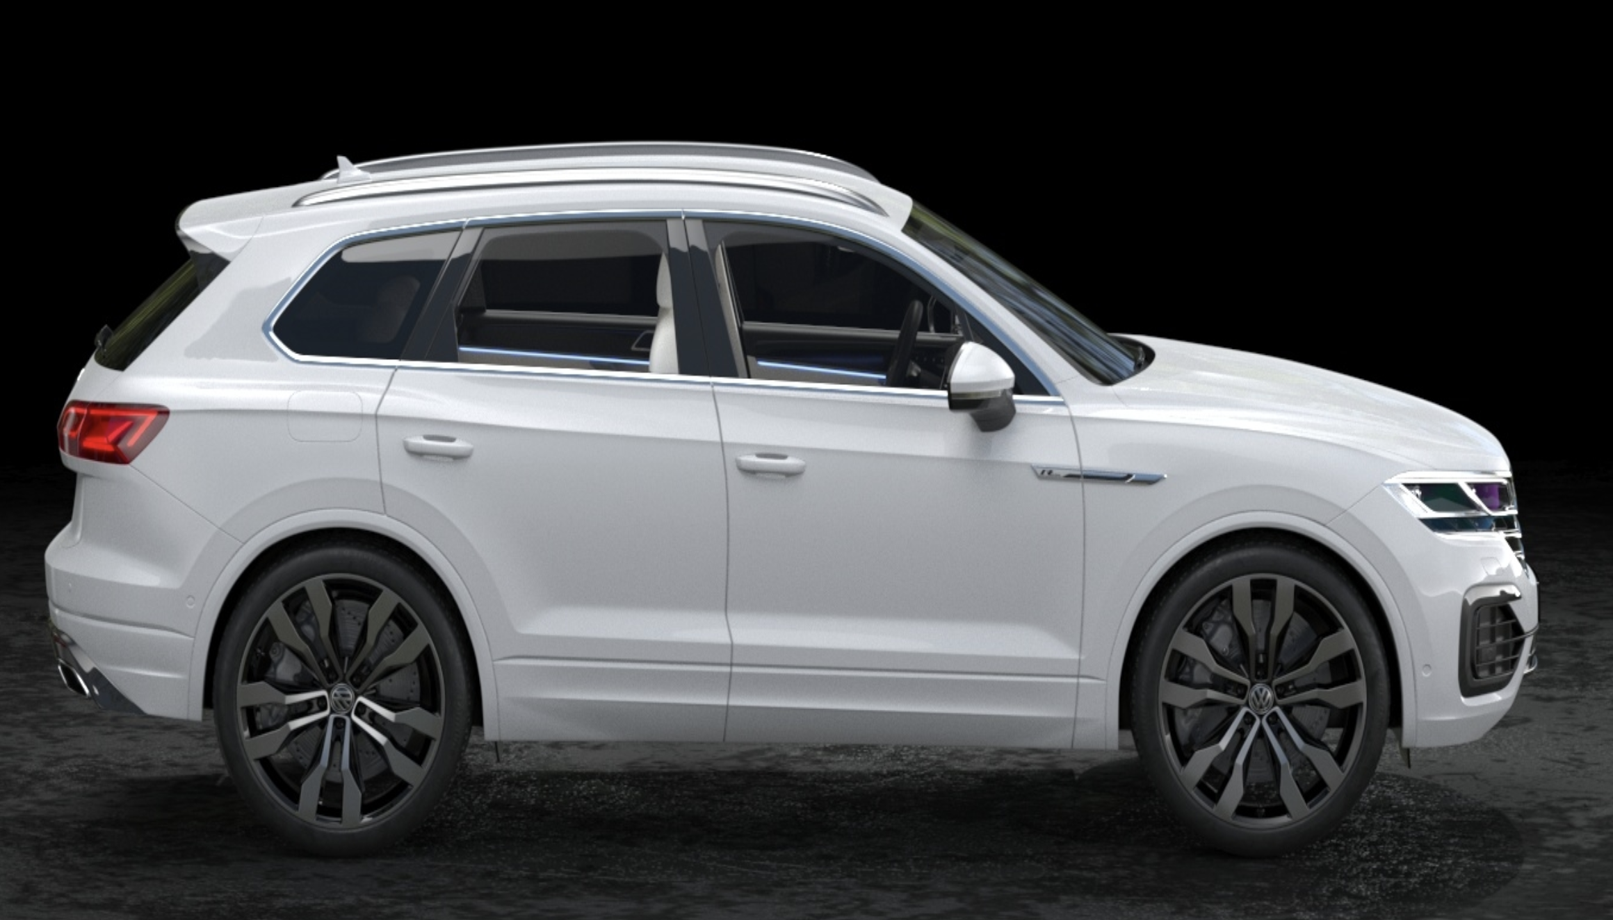hatch: (281, 382, 370, 451)
